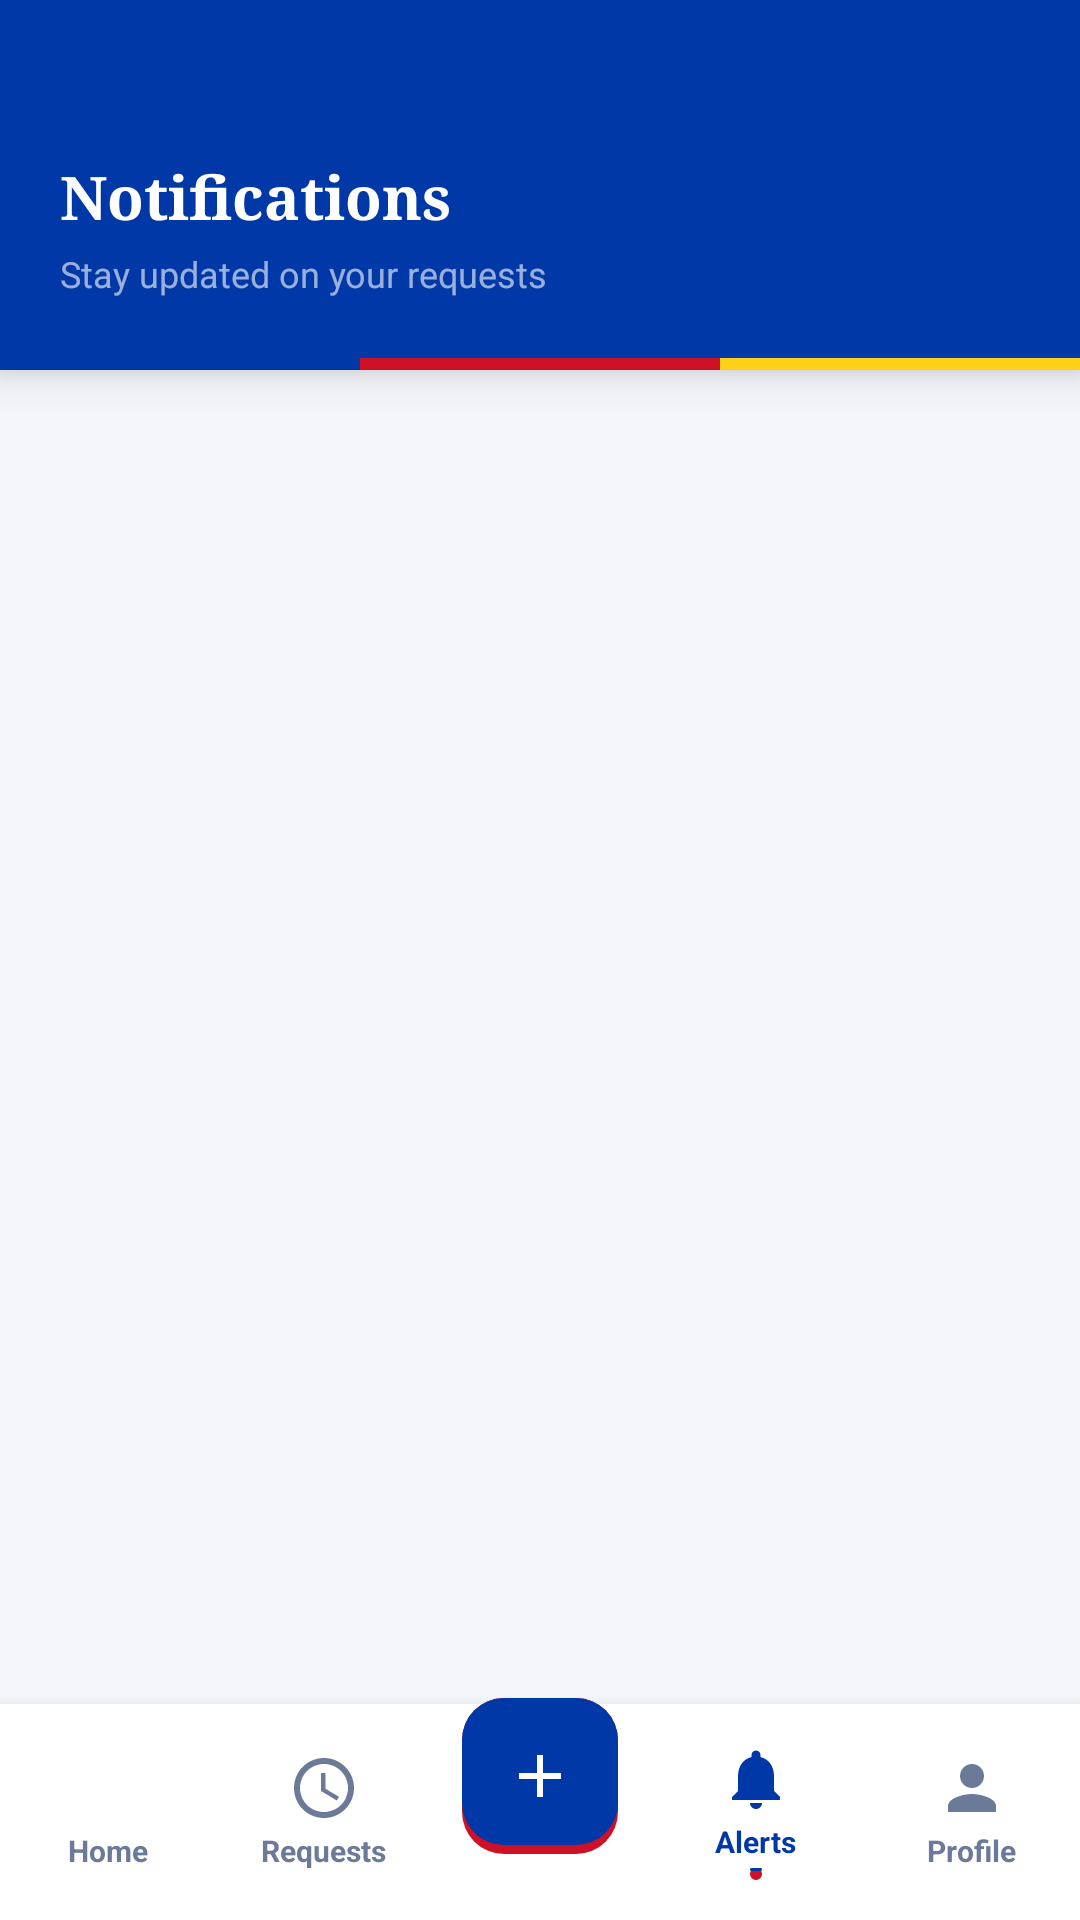

Screen size 1080 x 1920. Icon name, then its center in pixels as [x,y]:
add: [540,1776]
clock: [324,1788]
